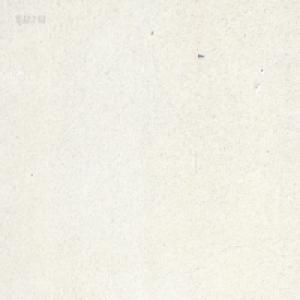Nail: (197, 53, 204, 58)
